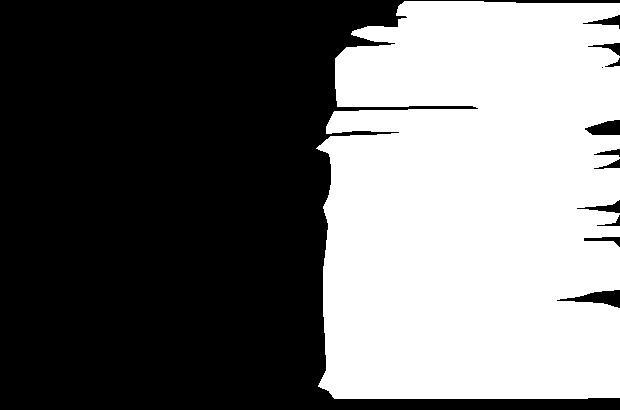type4: (315, 1, 620, 401)
